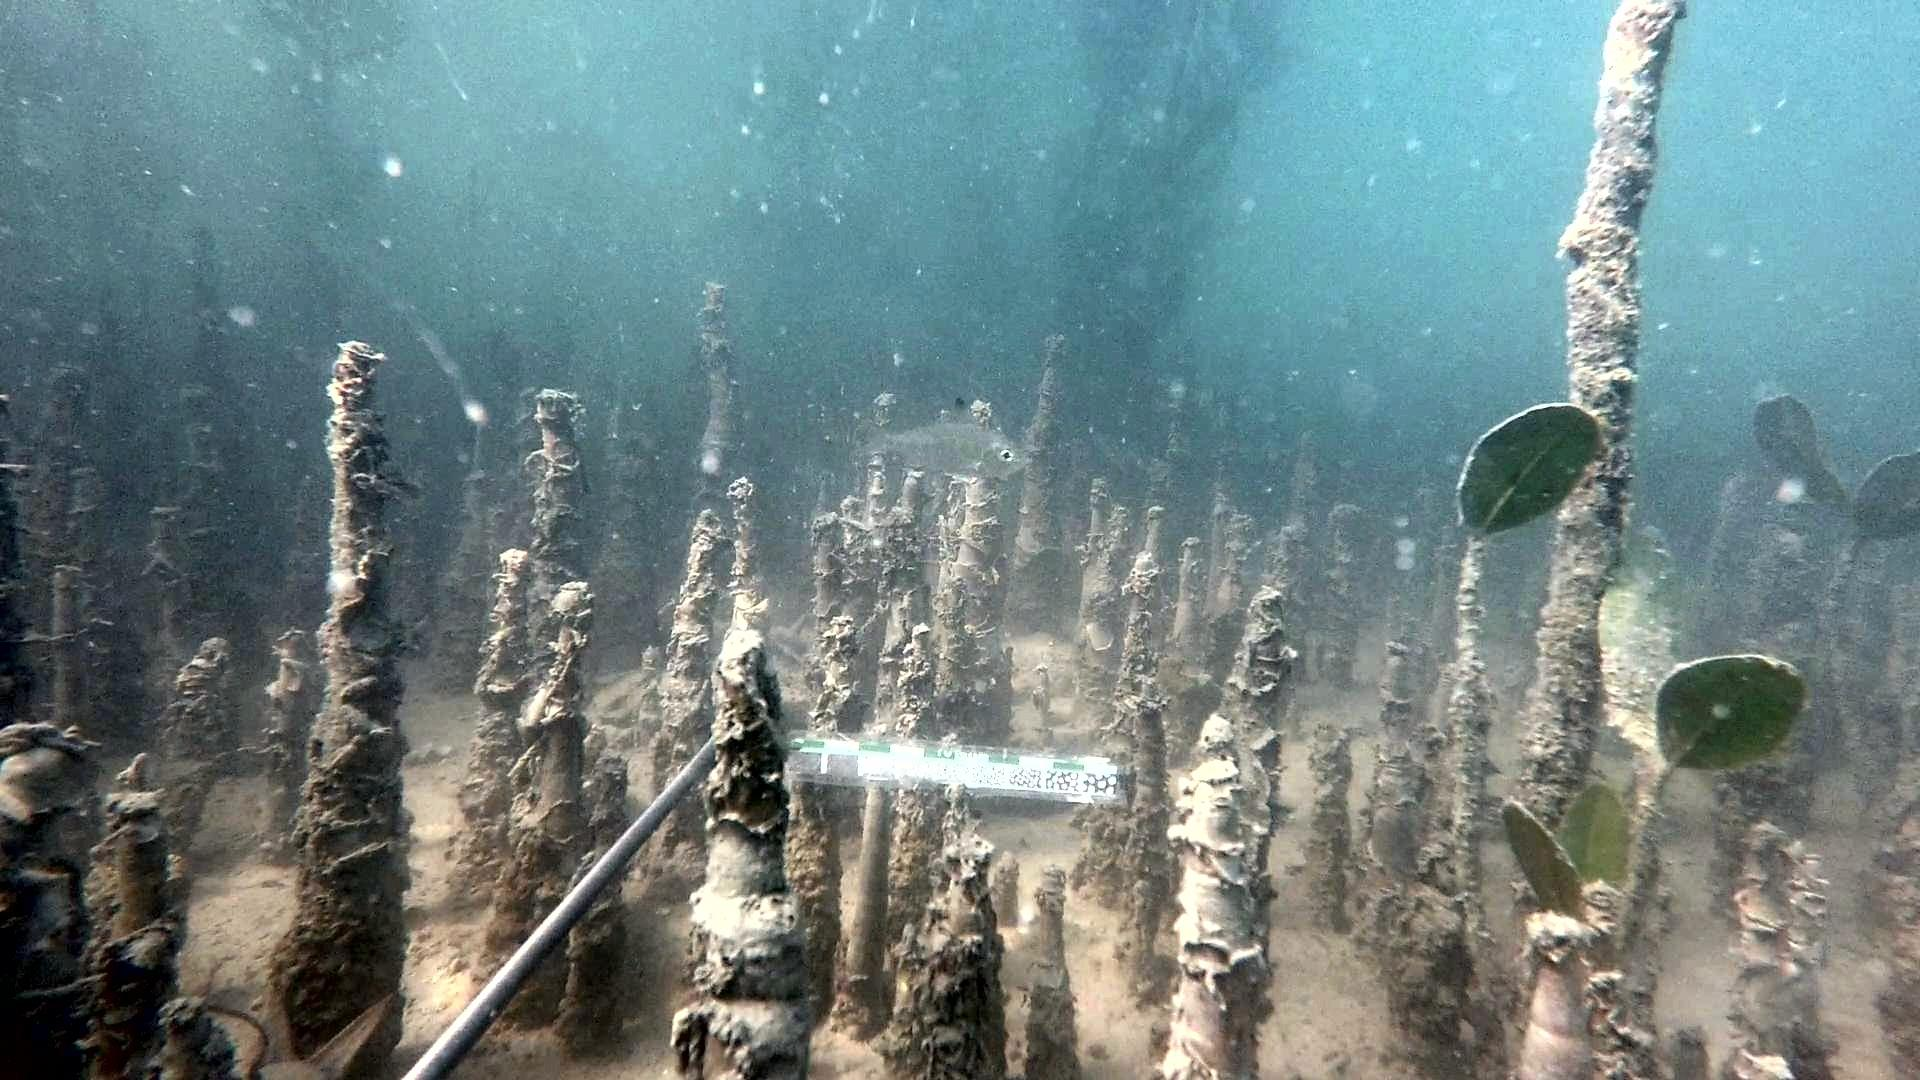gerres: (851, 396, 1028, 487)
